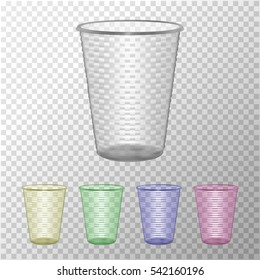plastic_glass: (74, 14, 188, 163), (190, 179, 244, 250), (132, 179, 186, 248), (18, 179, 69, 250), (77, 181, 128, 247)
